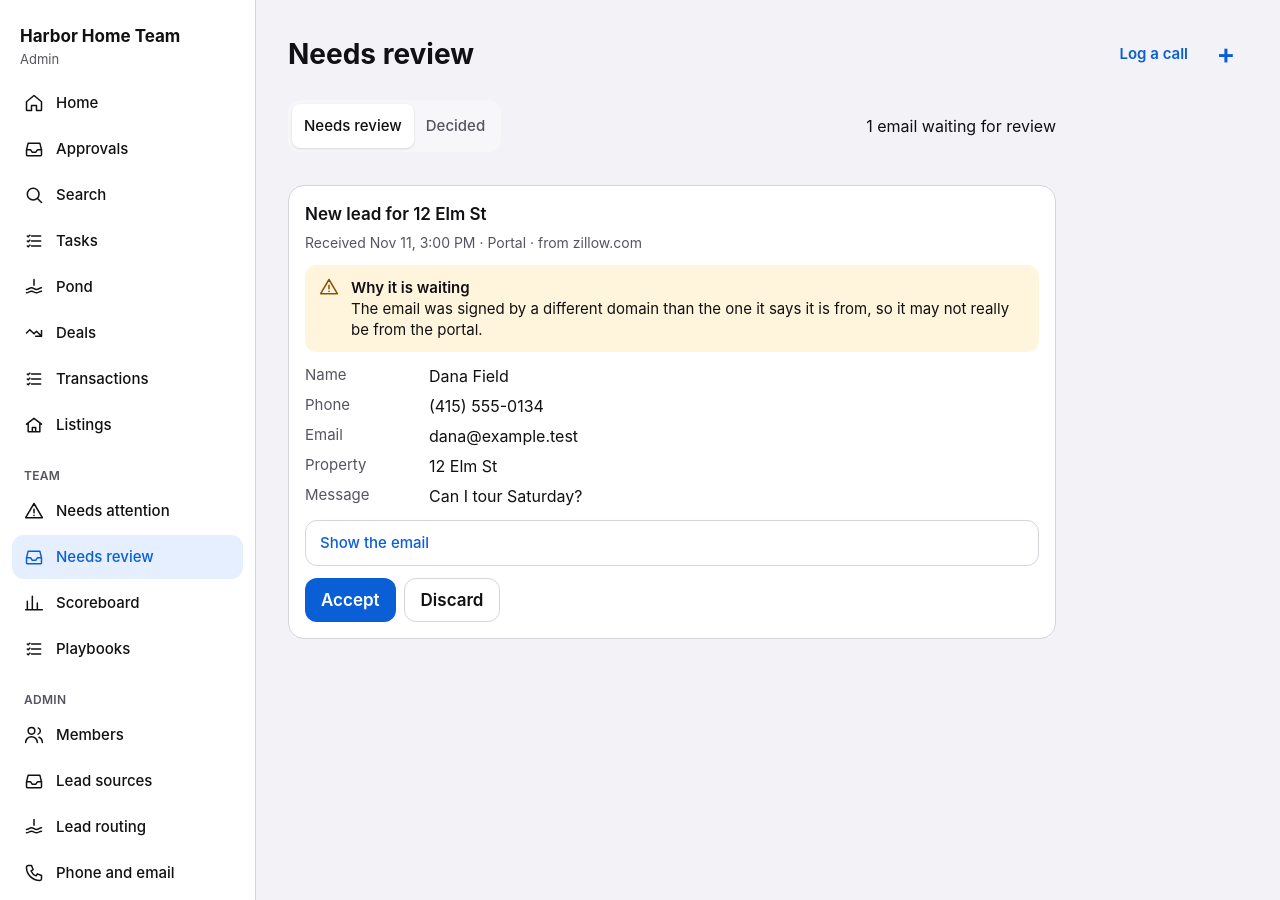
Needs review › the email text is behind "Show the email" and opens on request
Click the heading "Show the email": coordinates (375, 542) [320,533,429,552]
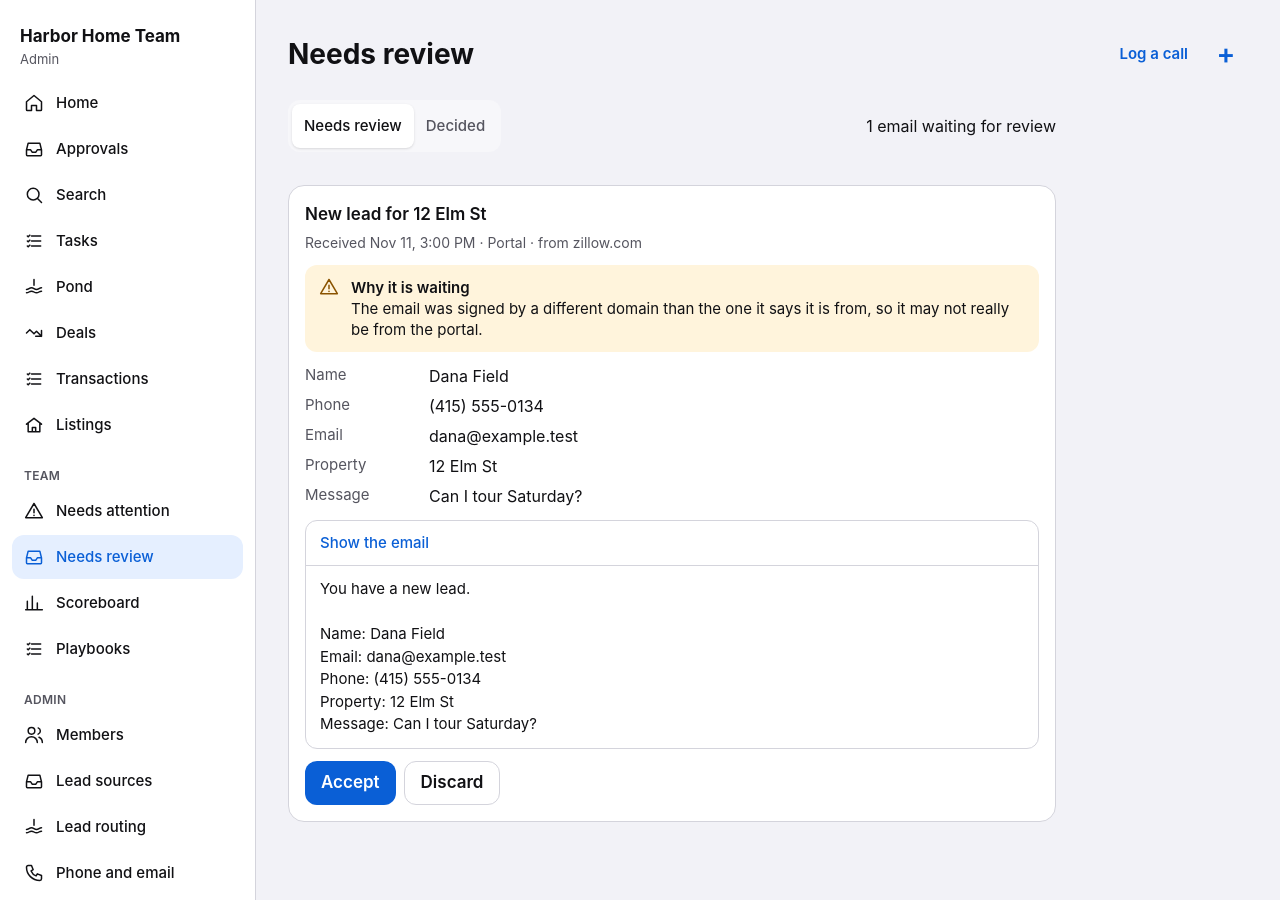
Expected: the text "Message: Can I tour Saturday?" is shown, [320,579,537,733]
